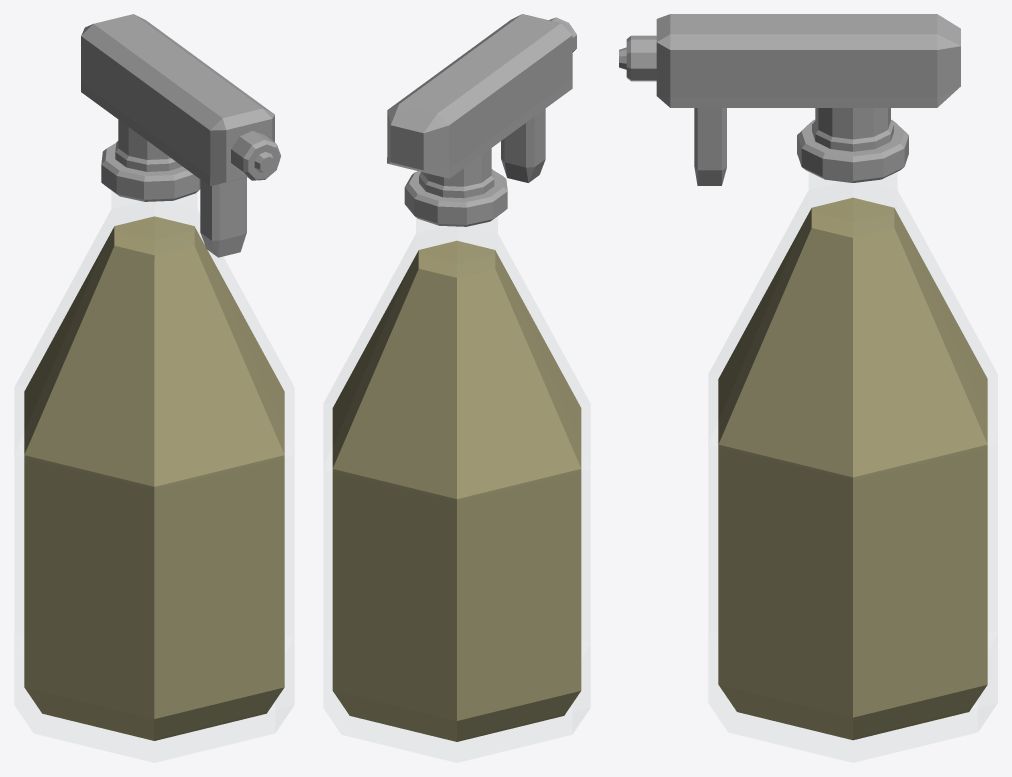
Rendered from SprayBottle_01.fbx.
The picture shows the model from 3 angles, left to right: view 1: azimuth 30°, elevation 25°; view 2: azimuth 150°, elevation 25°; view 3: azimuth 270°, elevation 25°; orthographic projection. The views are drawn at different scales.
Visible parts, largest first — view 1: Liquid, Head, Cap, Trigger, Nuzzle; view 2: Liquid, Head, Cap, Trigger; view 3: Liquid, Head, Cap, Trigger, Nuzzle.
Part boxes in pixels (box(x1,y1,x2,y2)): Liquid: box(24, 216, 284, 740); Head: box(81, 14, 274, 186); Cap: box(101, 119, 200, 201); Trigger: box(200, 177, 246, 257); Nuzzle: box(231, 131, 280, 180); Liquid: box(332, 240, 581, 741); Head: box(387, 14, 572, 178); Cap: box(404, 148, 507, 226); Trigger: box(501, 108, 545, 182); Liquid: box(718, 197, 987, 740); Head: box(656, 14, 960, 107); Cap: box(797, 108, 908, 182); Trigger: box(694, 108, 726, 185); Nuzzle: box(619, 35, 656, 81).
Size of the model in its own units: 0.0799 by 0.1787 by 0.0905.
